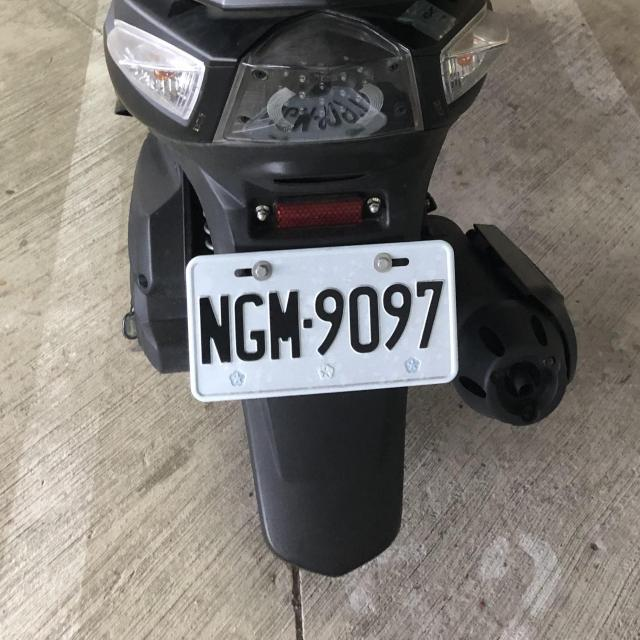W: (184, 235, 459, 401)
